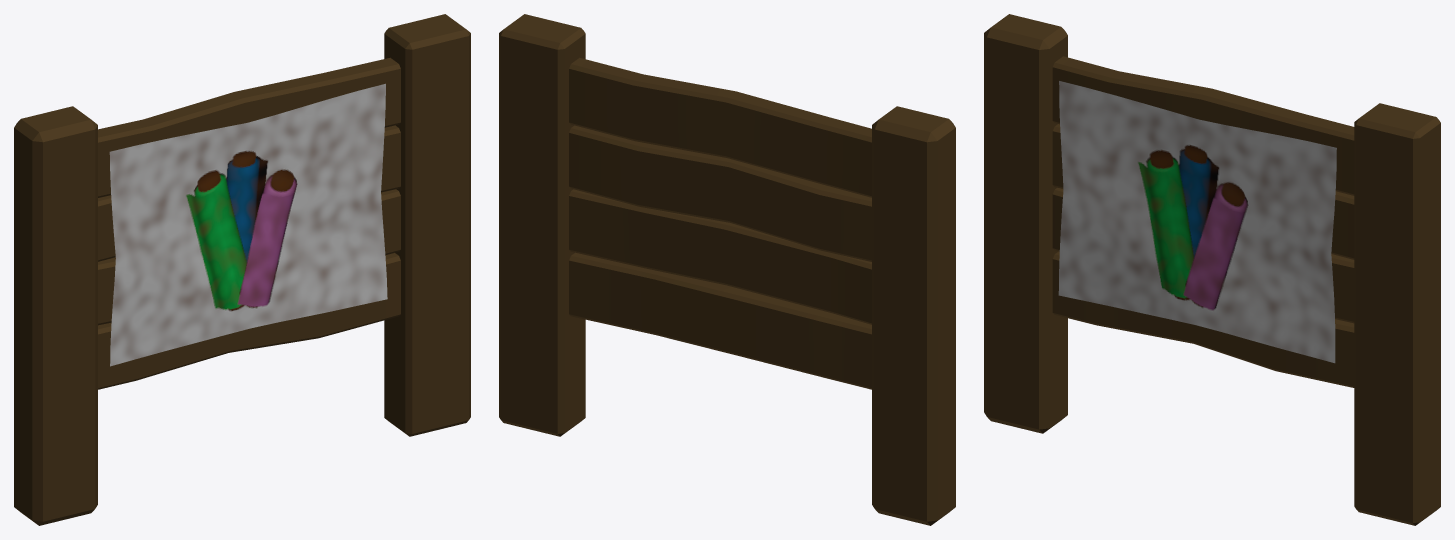
Rendered from MarketSign.fbx.
3 views of the same model, side by side, from view 1: azimuth 30°, elevation 25°; view 2: azimuth 150°, elevation 25°; view 3: azimuth 330°, elevation 25° (orthographic).
Parts seen in each view (by area): view 1: Poster1; view 2: Poster1; view 3: Poster1.
Boxes of the visible parts, x1,y1,x2,y2 form: Poster1: (14,14,470,525); Poster1: (499,14,955,525); Poster1: (984,14,1440,525).
Size of the model in its own units: 247 by 213 by 25.63.
Materials: 2 (1 with a texture image).
